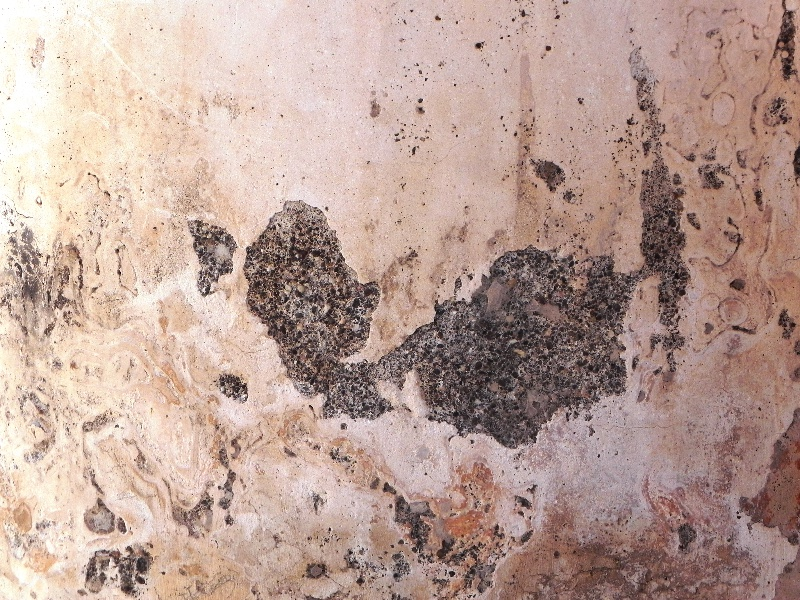Spalling: (243, 197, 645, 457), (171, 205, 238, 310)
